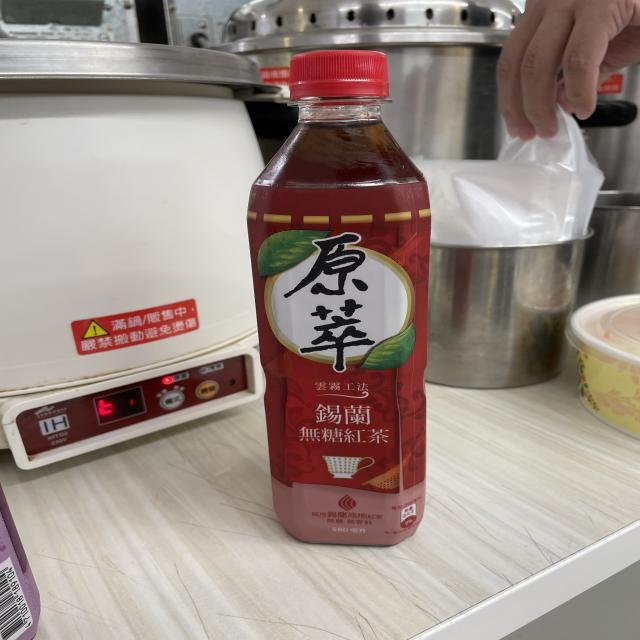YuanTsui_BlackTea: (218, 39, 464, 558)
